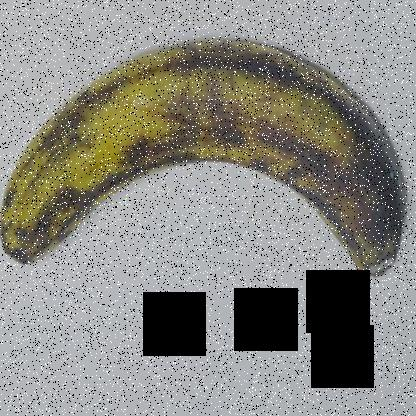overripe: (0, 32, 414, 315)
rotten: (326, 154, 413, 294)
